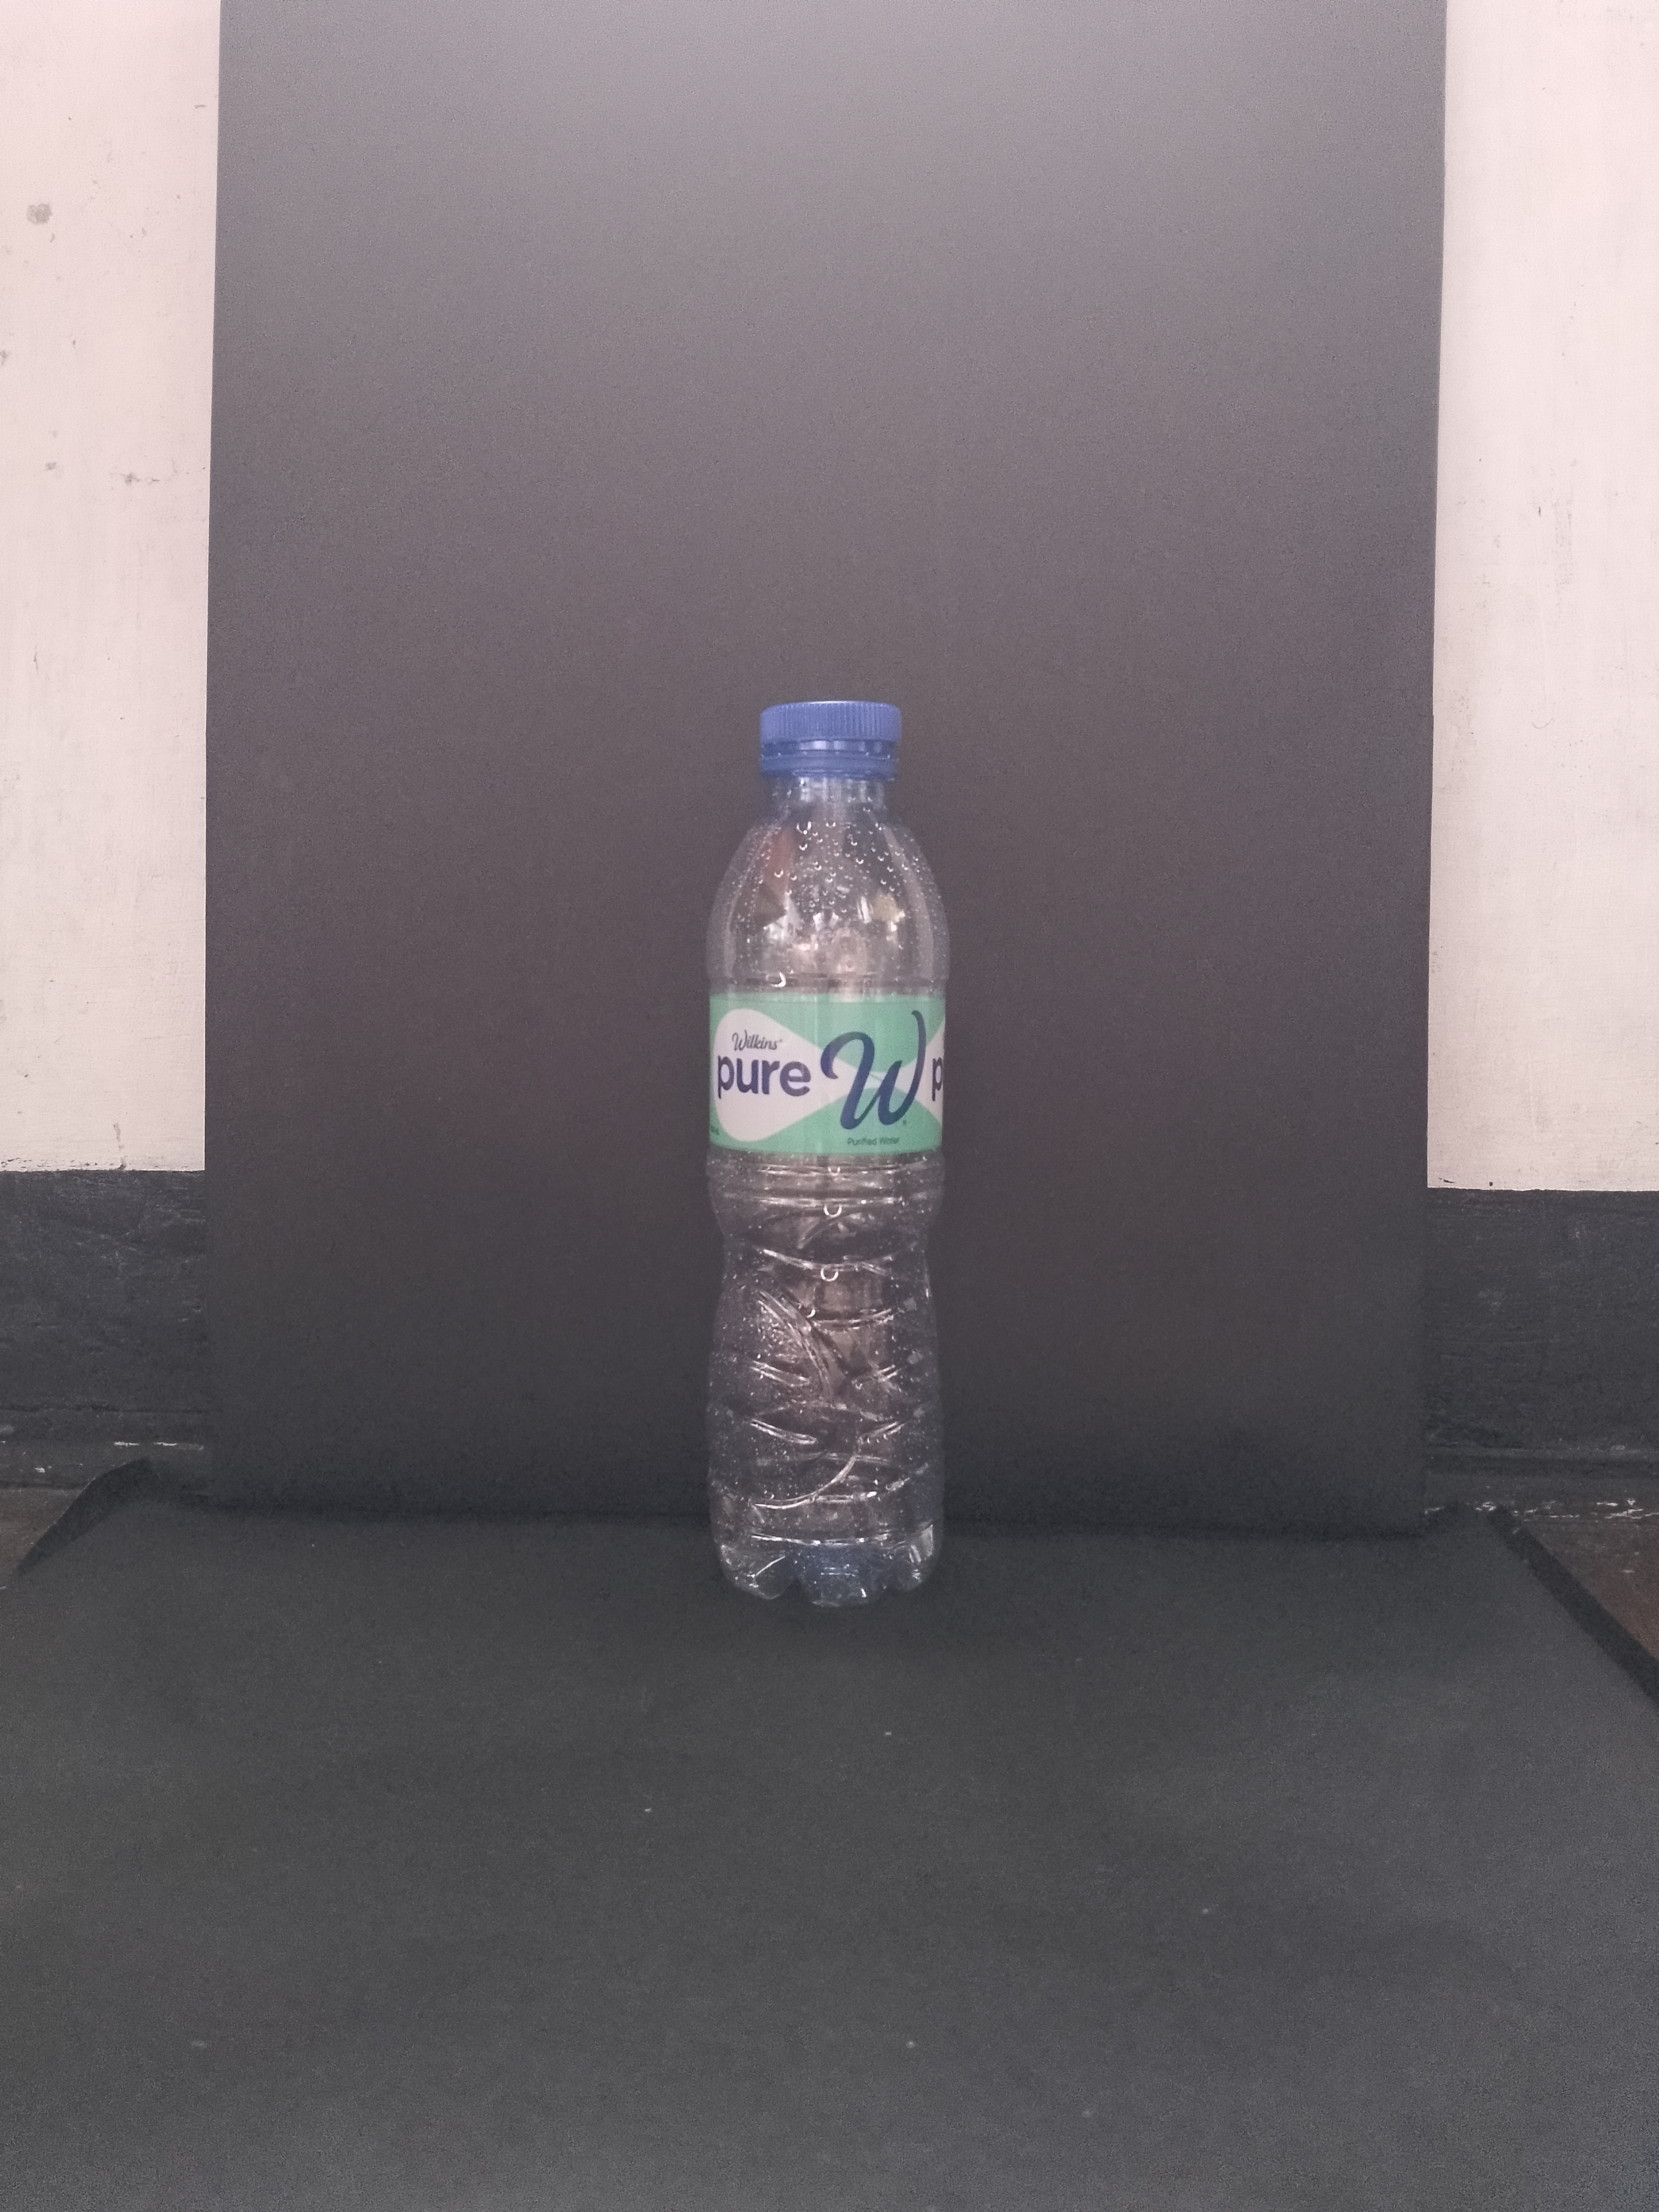plastic bottle: (687, 686, 965, 1622)
